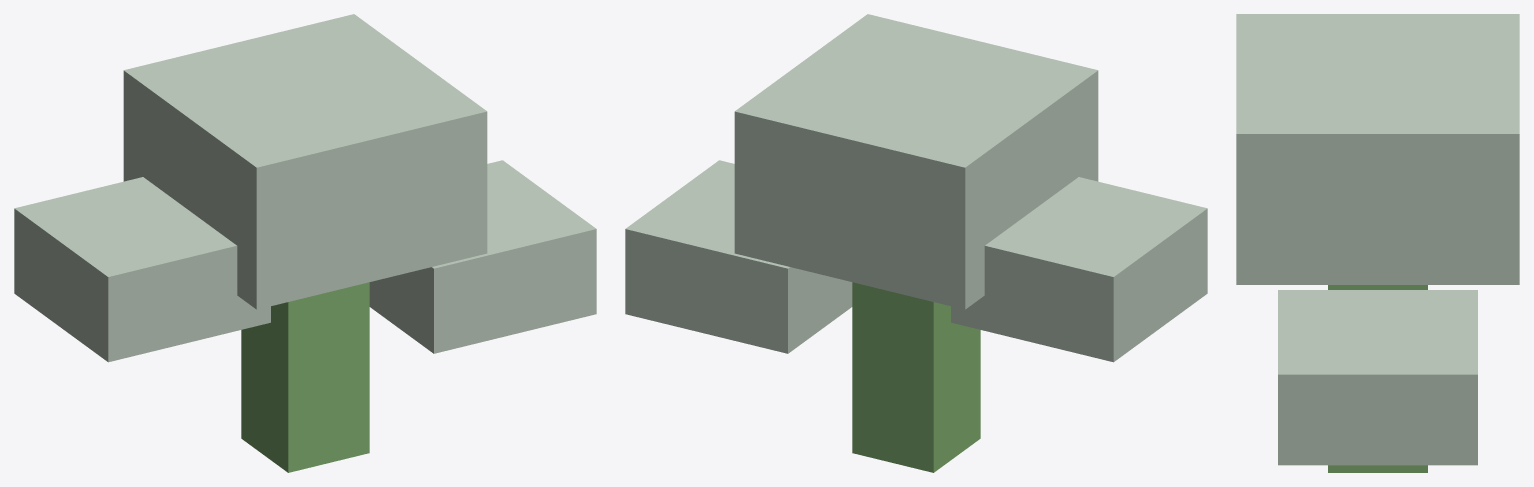
File: Prop_DS_Herb_ArchiveSage_S1.glb
3 renders of one model, left to right at view 1: azimuth 30°, elevation 25°; view 2: azimuth 150°, elevation 25°; view 3: azimuth 270°, elevation 25°, orthographic. The views are drawn at different scales.
Parts seen in each view (by area): view 1: Prop_DS_Herb_ArchiveSage_S1; view 2: Prop_DS_Herb_ArchiveSage_S1; view 3: Prop_DS_Herb_ArchiveSage_S1.
Part boxes in pixels (left/top/right/bottom): Prop_DS_Herb_ArchiveSage_S1: left=14, top=14, right=596, bottom=472; Prop_DS_Herb_ArchiveSage_S1: left=625, top=14, right=1207, bottom=472; Prop_DS_Herb_ArchiveSage_S1: left=1236, top=14, right=1519, bottom=472.
Bounding box in the file's own units: 0.36 × 0.25 × 0.17.
